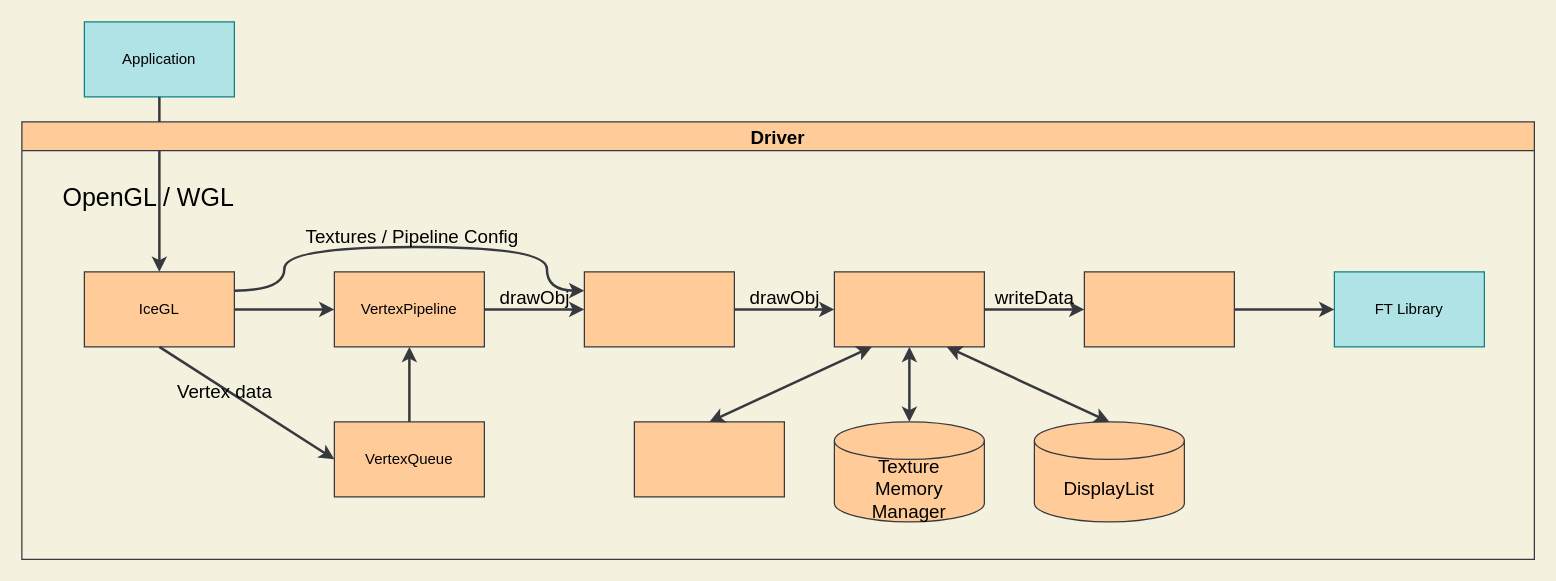
The diagram is 1556 pixels wide and 581 high, and some of its shapes have lost their labels. The shapes that lost their labels are listed below. From the top down, each one's centre as x and y in pixels, then its label:
At [658,309]: "PixelPipeline".
At [908,309]: "Renderer".
At [1158,309]: "IBusConnector".
At [708,459]: "Rasterizer".
